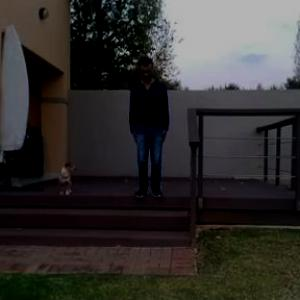follow: (135, 58, 172, 204)
